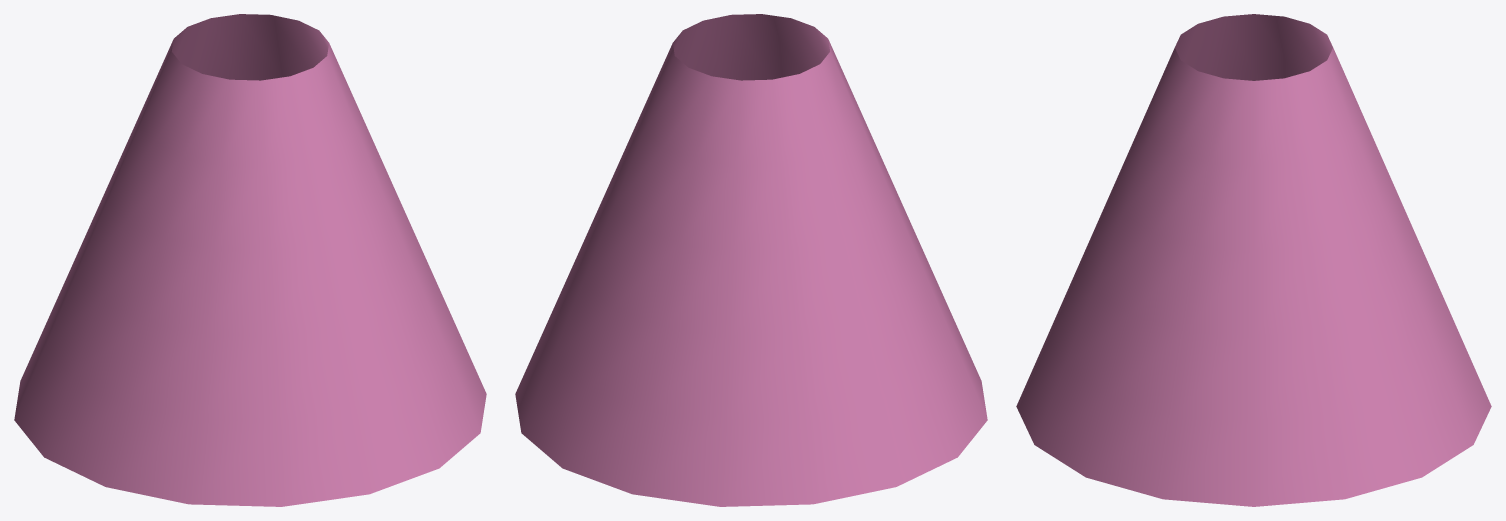
File: flower-bell.glb
The picture shows the model from 3 angles, left to right: view 1: azimuth 30°, elevation 25°; view 2: azimuth 150°, elevation 25°; view 3: azimuth 270°, elevation 25°; orthographic projection.
Visible parts, largest first — view 1: tint-surface; view 2: tint-surface; view 3: tint-surface.
Part boxes in pixels (bbox=[...]): tint-surface: bbox=[14, 14, 486, 506]; tint-surface: bbox=[515, 14, 987, 506]; tint-surface: bbox=[1016, 14, 1491, 506].
Size of the model in its own units: 0.72 by 0.6 by 0.72.
